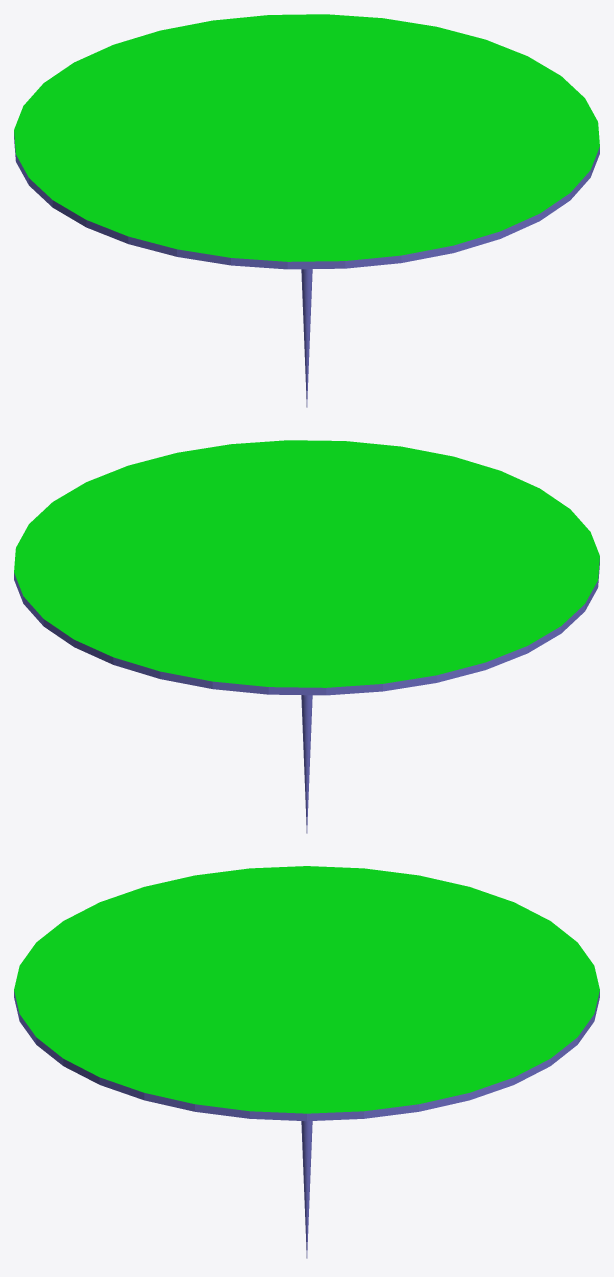
The model's file is SpaceStationBase.fbx.
3 views of the same model, one above another, from view 1: azimuth 30°, elevation 25°; view 2: azimuth 150°, elevation 25°; view 3: azimuth 270°, elevation 25° (orthographic).
Parts seen in each view (by area): view 1: Base; view 2: Base; view 3: Base.
Boxes of the visible parts, <box> form: Base: <box>14,14,599,407</box>; Base: <box>14,440,599,833</box>; Base: <box>14,866,599,1258</box>.
Bounding box in the file's own units: 14000 × 7200 × 14000.
